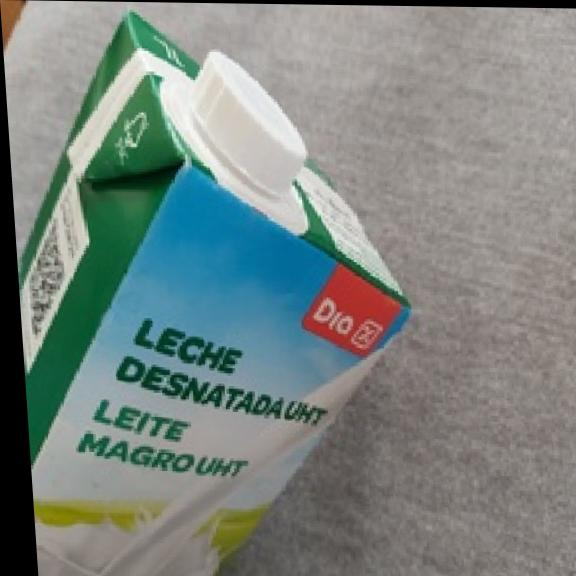Kertas: (20, 12, 406, 576)
